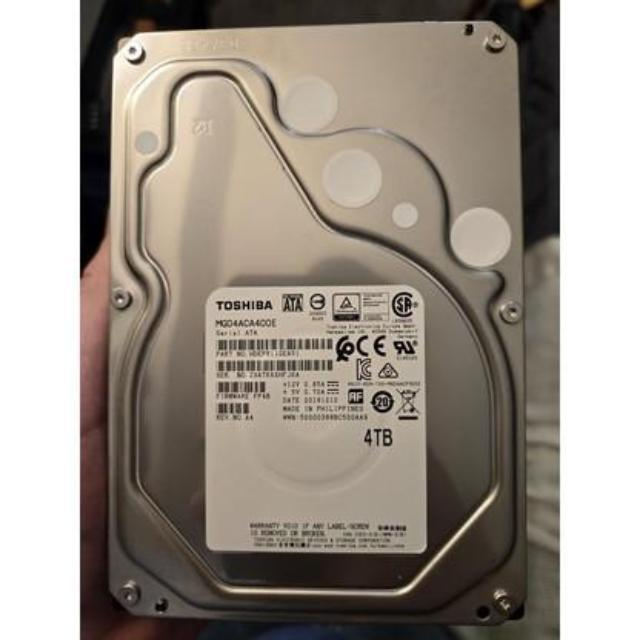DISK: (99, 24, 528, 630)
